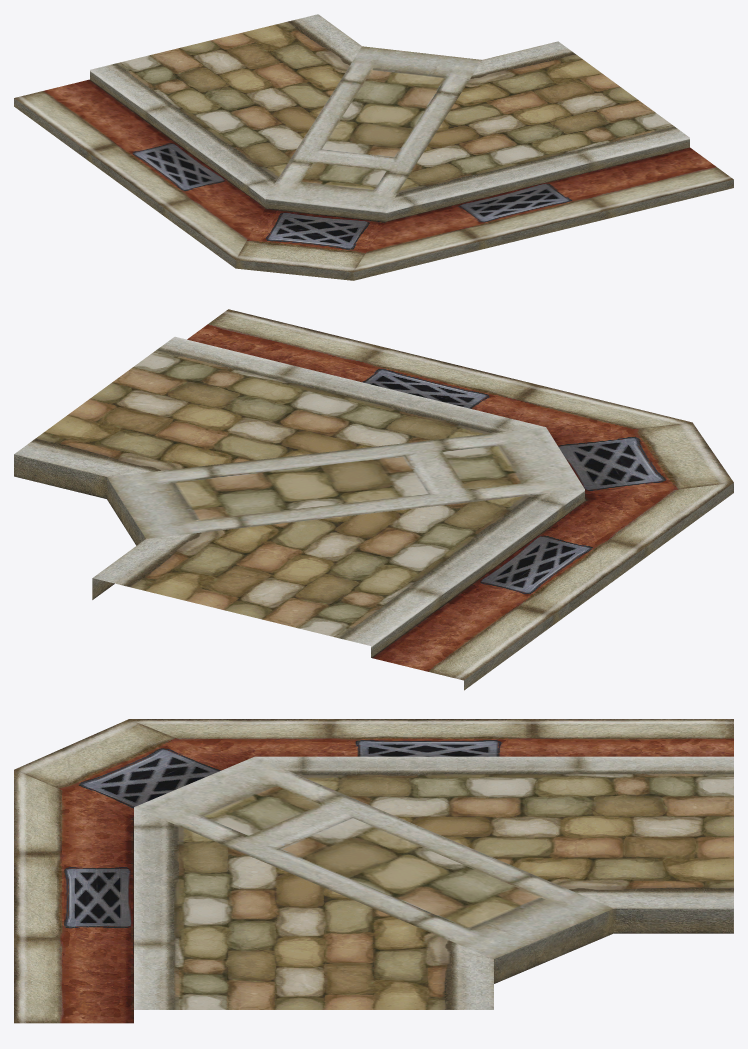
File: obj_masabkoutle01.glb
3 renders of one model, top to bottom at view 1: azimuth 30°, elevation 25°; view 2: azimuth 150°, elevation 25°; view 3: azimuth 270°, elevation 25°, orthographic. The views are drawn at different scales.
Parts seen in each view (by area): view 1: part_0; view 2: part_0; view 3: part_0.
Part boxes in pixels (box(x1,y1,x2,y2)): part_0: box(14, 14, 733, 280); part_0: box(14, 309, 733, 690); part_0: box(14, 719, 733, 1023).
Size of the model in its own units: 6 by 0.2284 by 6.
2 materials, 2 textured.
